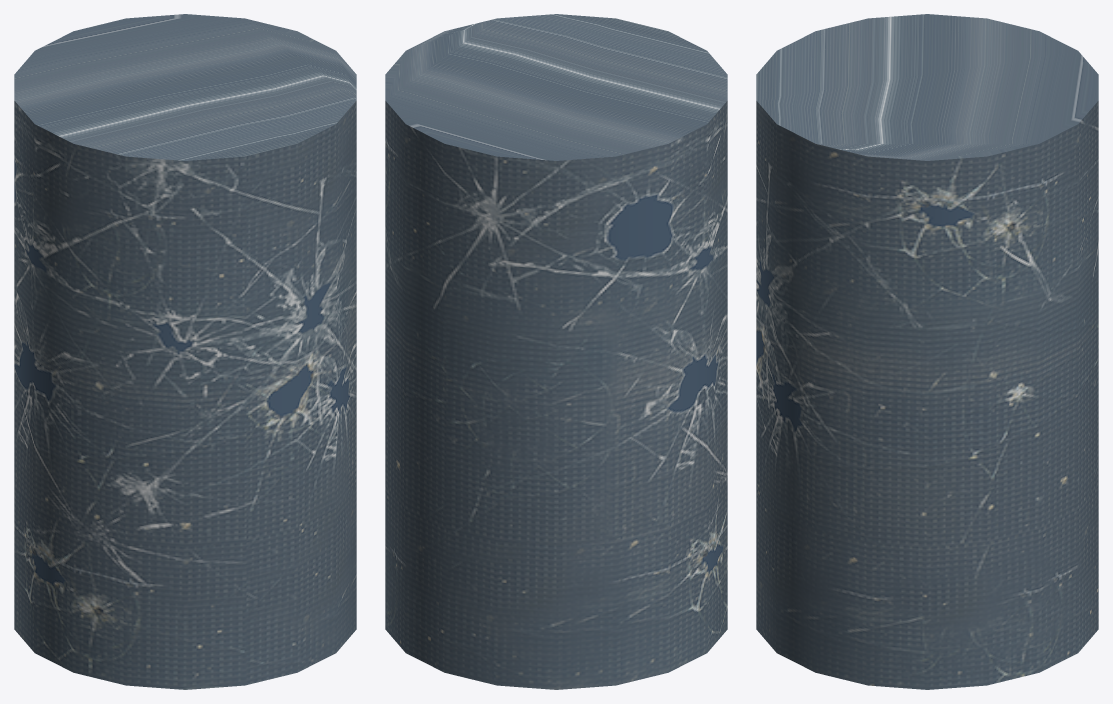
The model's file is shenghua2.FBX.
3 renders of one model, left to right at view 1: azimuth 30°, elevation 25°; view 2: azimuth 150°, elevation 25°; view 3: azimuth 270°, elevation 25°, orthographic.
Parts seen in each view (by area): view 1: Cylinder001; view 2: Cylinder001; view 3: Cylinder001.
Part boxes in pixels (bbox=[...]): Cylinder001: bbox=[14, 14, 356, 689]; Cylinder001: bbox=[385, 14, 727, 689]; Cylinder001: bbox=[756, 14, 1098, 689].
Size of the model in its own units: 83.97 by 141 by 82.69.
